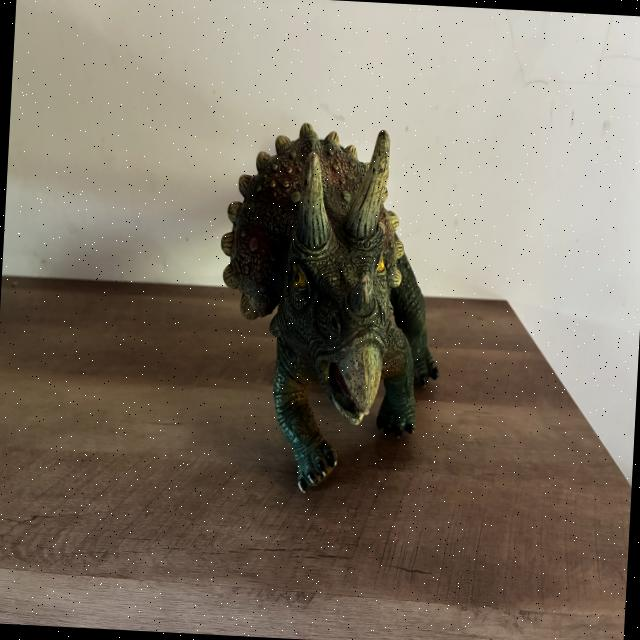dinosaur: (221, 123, 438, 492)
